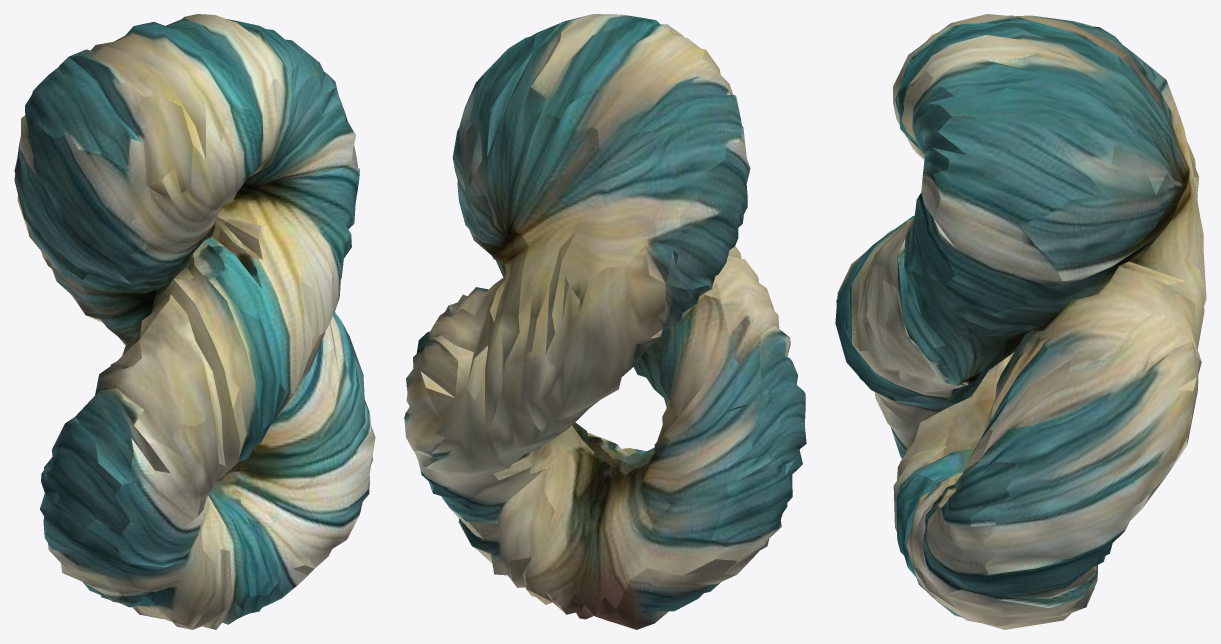
Rendered from yarn.glb.
3 renders of one model, left to right at view 1: azimuth 30°, elevation 25°; view 2: azimuth 150°, elevation 25°; view 3: azimuth 270°, elevation 25°, orthographic.
Parts seen in each view (by area): view 1: yarn; view 2: yarn; view 3: yarn.
Part boxes in pixels (x1=…): yarn: x1=14, y1=14, x2=375, y2=629; yarn: x1=404, y1=14, x2=806, y2=629; yarn: x1=835, y1=14, x2=1206, y2=629.
Bounding box in the file's own units: 0.6016 × 1 × 0.5804.
1 material, 1 textured.
